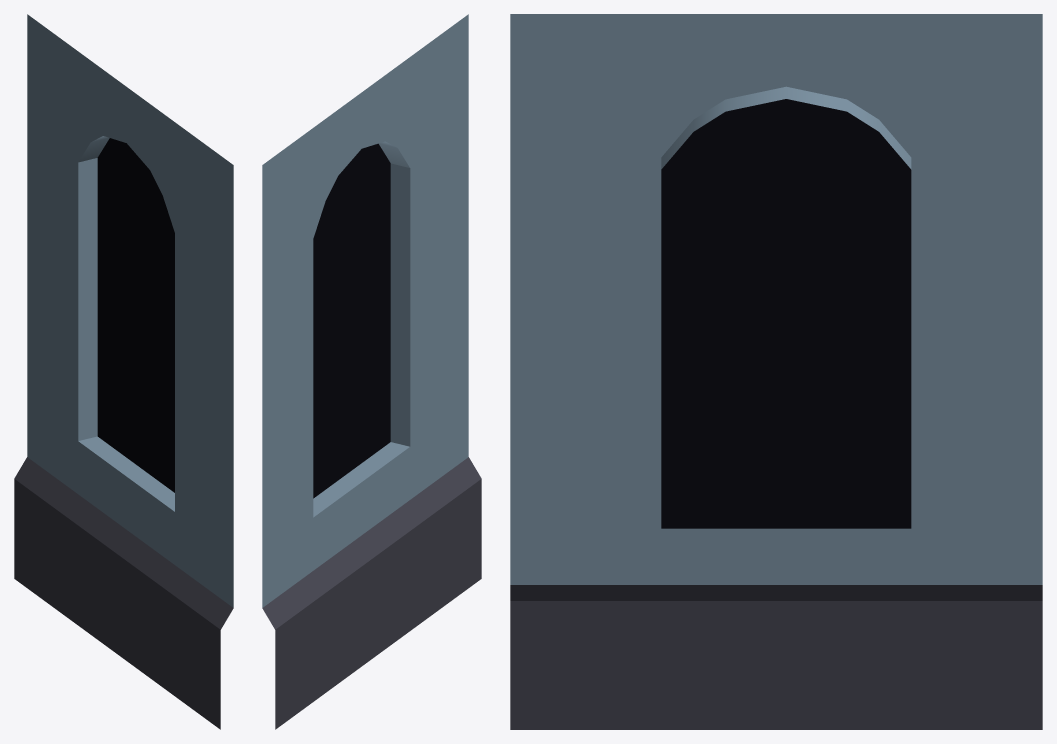
File: B3_wall_bottom_window.FBX
3 renders of one model, left to right at view 1: azimuth 30°, elevation 25°; view 2: azimuth 150°, elevation 25°; view 3: azimuth 270°, elevation 25°, orthographic. The views are drawn at different scales.
Visible parts, largest first — view 1: B3_wall_bottom_window; view 2: B3_wall_bottom_window; view 3: B3_wall_bottom_window.
Part boxes in pixels (x1,y1,x2,y2): B3_wall_bottom_window: (14,14,233,729); B3_wall_bottom_window: (262,14,481,729); B3_wall_bottom_window: (510,14,1042,729).
Bounding box in the file's own units: 18.05 × 300 × 200.
